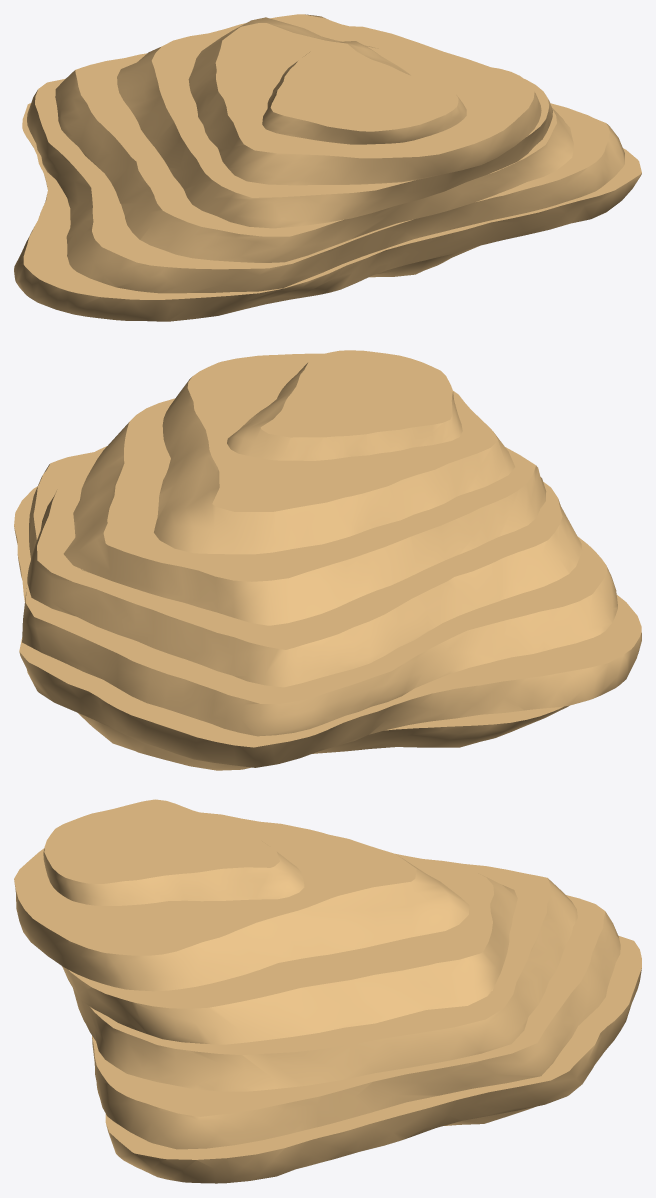
Rendered from kayou1 sable.fbx.
The picture shows the model from 3 angles, top to bottom: view 1: azimuth 30°, elevation 25°; view 2: azimuth 150°, elevation 25°; view 3: azimuth 270°, elevation 25°; orthographic projection. The views are drawn at different scales.
Parts seen in each view (by area): view 1: kayou1; view 2: kayou1; view 3: kayou1.
Boxes of the visible parts, x1,y1,x2,y2 form: kayou1: (14, 14, 641, 321); kayou1: (14, 350, 641, 770); kayou1: (14, 799, 641, 1183).
Size of the model in its own units: 38.01 by 12.69 by 32.17.
